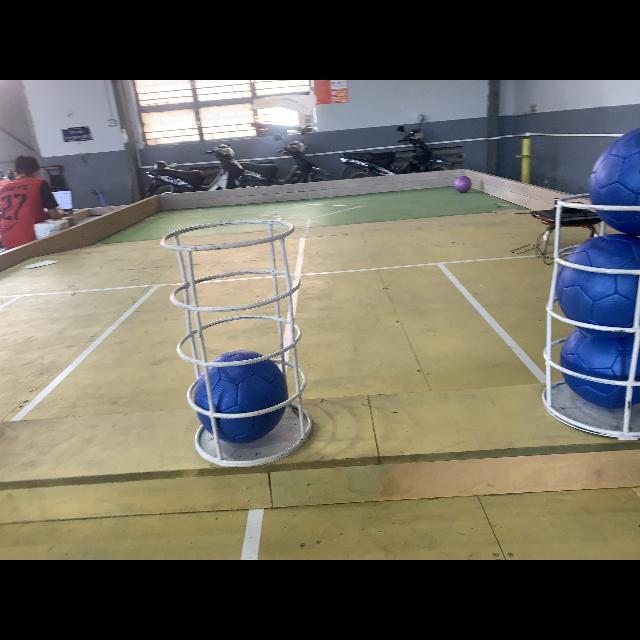B: (193, 350, 289, 448), (560, 230, 640, 336), (560, 326, 640, 414), (580, 124, 640, 236)
